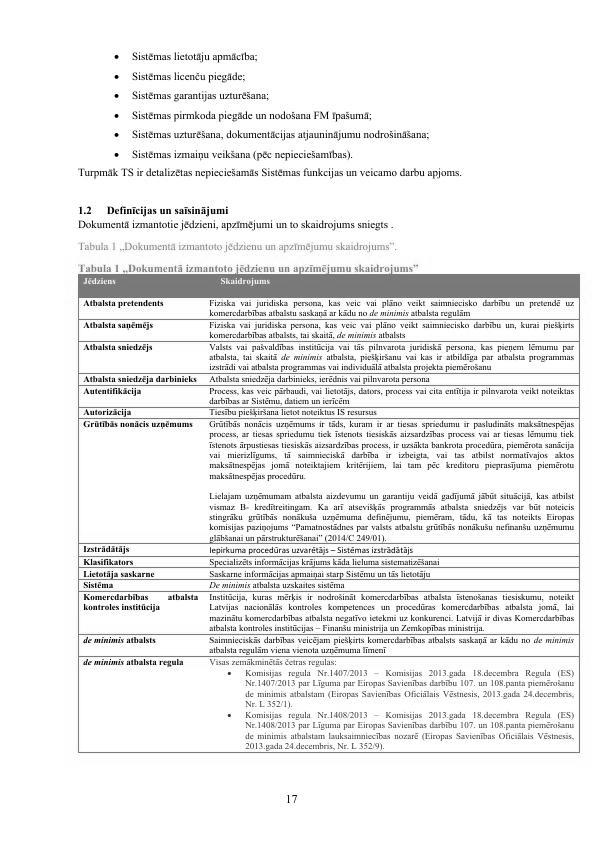table: (75, 272, 584, 756)
text: (126, 44, 434, 165), (73, 202, 417, 272), (74, 165, 465, 187)
